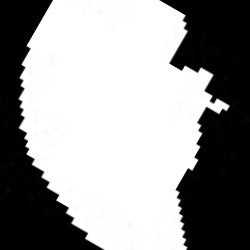spot: (19, 0, 230, 249)
